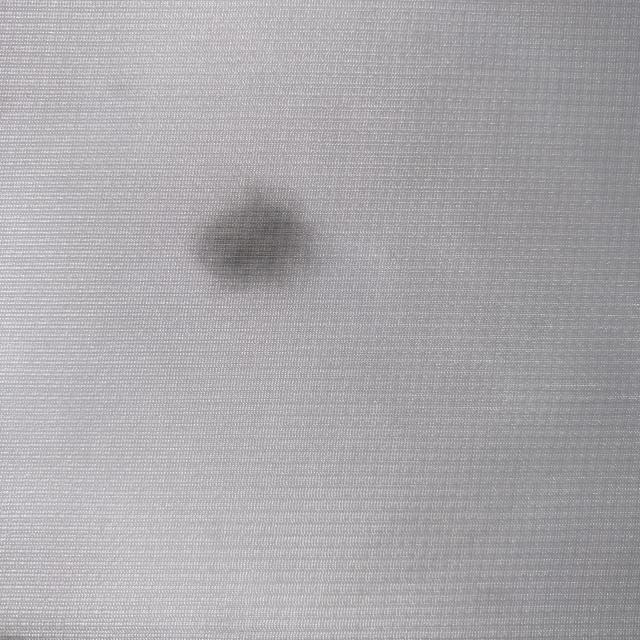Stain: (195, 186, 314, 288)
